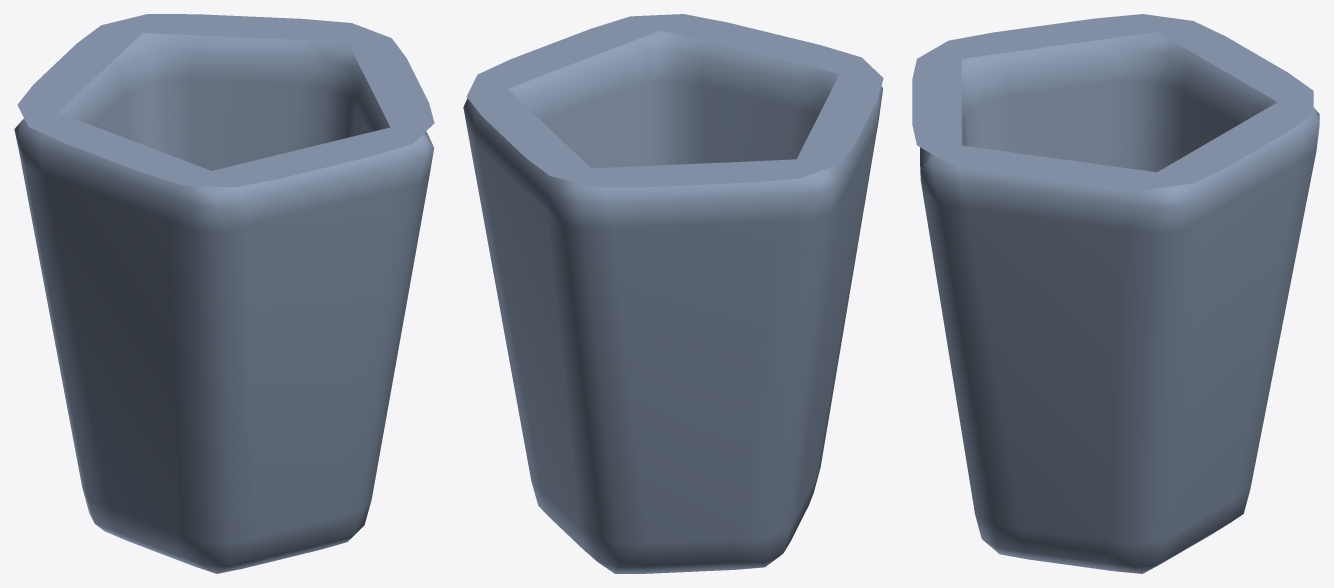
File: can.glb
The picture shows the model from 3 angles, left to right: view 1: azimuth 30°, elevation 25°; view 2: azimuth 150°, elevation 25°; view 3: azimuth 270°, elevation 25°; orthographic projection.
Visible parts, largest first — view 1: Can; view 2: Can; view 3: Can.
Boxes of the visible parts, x1,y1,x2,y2 form: Can: (14, 14, 434, 573); Can: (463, 14, 883, 573); Can: (912, 14, 1319, 573).
Size of the model in its own units: 0.2761 by 0.3075 by 0.2679.
Materials: 1 (1 with a texture image).
